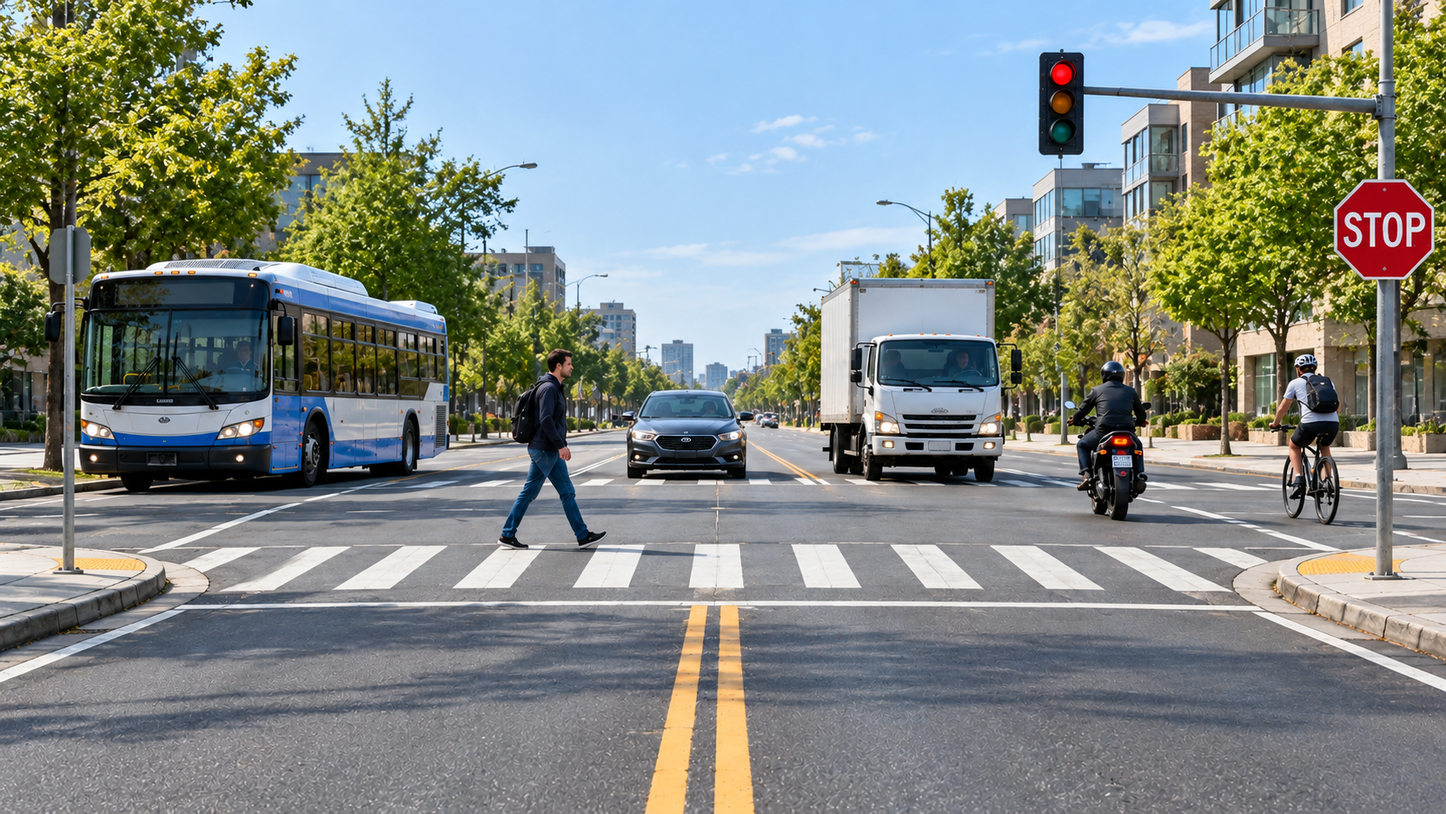bicycle: (1249, 400, 1342, 535)
bus: (45, 261, 498, 498)
car: (622, 381, 753, 486)
crossing_warning_sign: (25, 160, 153, 291)
motorcycle: (1065, 408, 1158, 527)
person: (491, 346, 620, 554), (1251, 344, 1339, 493), (1067, 350, 1152, 489)
stop_sign: (1326, 176, 1443, 283)
traffic_light: (1035, 48, 1088, 157)
truck: (817, 247, 1082, 494)
zebra_crossing: (0, 519, 1445, 603)
